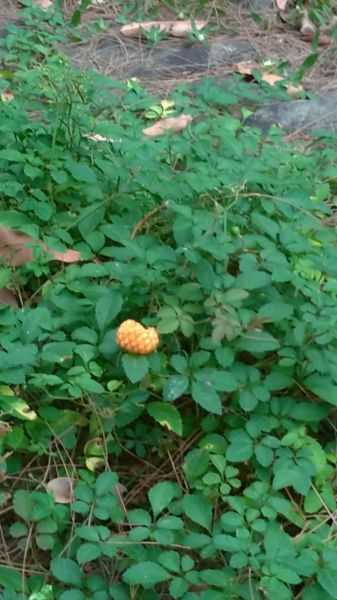eggs: (112, 318, 163, 360)
